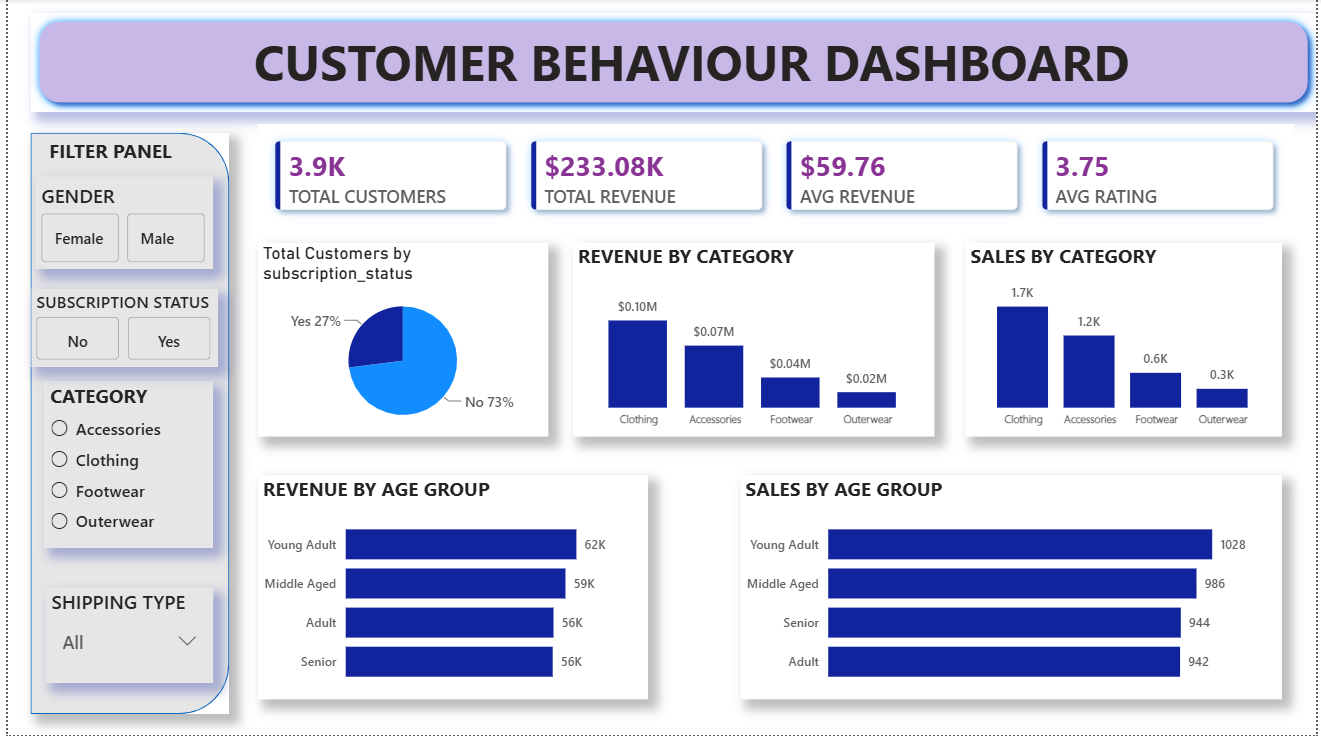

What the dashboard file says about the page in this screenshot:
{"tool":"powerbi","page":{"name":"Page 1","canvas":[1280,720],"ordinal":0},"visuals":[{"type":"shape","box":[22,13.5,1258.3,96.6],"z":0},{"type":"textbox","box":[231.1,23.2,875.5,86.8],"z":1000},{"type":"shape","box":[22,130.8,194.4,568.6],"z":2000},{"type":"cardVisual","fields":{"Data":["public customer.TOTAL CUSTOMERS","public customer.TOTAL REVENUE","public customer.AVG REVENUE","public customer.AVG RATING"]},"box":[244.6,122.3,1013.7,101.5],"z":3000},{"type":"pieChart","title":"Total Customers by subscription_status","fields":{"Category":["public customer.subscription_status"],"Y":["Count(public customer.customer_id)"]},"box":[244.6,238.5,283.7,189.5],"z":4000},{"type":"columnChart","title":"REVENUE BY CATEGORY","fields":{"Category":["public customer.category"],"Y":["Sum(public customer.purchase_amount)"]},"box":[552.7,238.5,353.4,189.5],"z":5000},{"type":"columnChart","title":"SALES BY CATEGORY","fields":{"Category":["public customer.category"],"Y":["CountNonNull(public customer.customer_id)"]},"box":[936.7,238.5,309.4,189.5],"z":6000},{"type":"barChart","title":"REVENUE BY AGE GROUP","fields":{"Category":["public customer.age_group"],"Y":["Sum(public customer.purchase_amount)"]},"box":[244.6,465.9,381.5,218.9],"z":7000},{"type":"barChart","title":"SALES BY AGE GROUP","fields":{"Category":["public customer.age_group"],"Y":["CountNonNull(public customer.customer_id)"]},"box":[716.6,465.9,529.5,218.9],"z":8000},{"type":"advancedSlicerVisual","title":"GENDER","fields":{"Values":["public customer.gender"]},"box":[26.9,173.6,173.6,90.5],"z":9000},{"type":"advancedSlicerVisual","title":"SUBSCRIPTION STATUS","fields":{"Values":["public customer.subscription_status"]},"box":[22,283.7,183.4,75.8],"z":10000},{"type":"listSlicer","title":"CATEGORY","fields":{"Values":["public customer.category"]},"box":[35.5,374.2,165.1,162.6],"z":11000},{"type":"slicer","title":"SHIPPING TYPE","fields":{"Values":["public customer.shipping_type"]},"box":[36.7,576,163.9,92.9],"z":12000},{"type":"textbox","box":[35.5,130.8,151.6,42.8],"z":12001}]}

Visuals, with their boxes in screenshot pixels (x1, y1, x2, y2), scaled from the page's 1280x720 canvas onto the 1321x737 screenshot:
shape: left=23, top=14, right=1320, bottom=113
textbox: left=239, top=24, right=1142, bottom=113
shape: left=23, top=134, right=223, bottom=716
cardVisual - public customer.TOTAL CUSTOMERS x public customer.TOTAL REVENUE: left=252, top=125, right=1299, bottom=229
"Total Customers by subscription_status" pieChart: left=252, top=244, right=545, bottom=438
"REVENUE BY CATEGORY" columnChart: left=570, top=244, right=935, bottom=438
"SALES BY CATEGORY" columnChart: left=967, top=244, right=1286, bottom=438
"REVENUE BY AGE GROUP" barChart: left=252, top=477, right=646, bottom=701
"SALES BY AGE GROUP" barChart: left=740, top=477, right=1286, bottom=701
"GENDER" advancedSlicerVisual: left=28, top=178, right=207, bottom=270
"SUBSCRIPTION STATUS" advancedSlicerVisual: left=23, top=290, right=212, bottom=368
"CATEGORY" listSlicer: left=37, top=383, right=207, bottom=549
"SHIPPING TYPE" slicer: left=38, top=590, right=207, bottom=685
textbox: left=37, top=134, right=193, bottom=178
